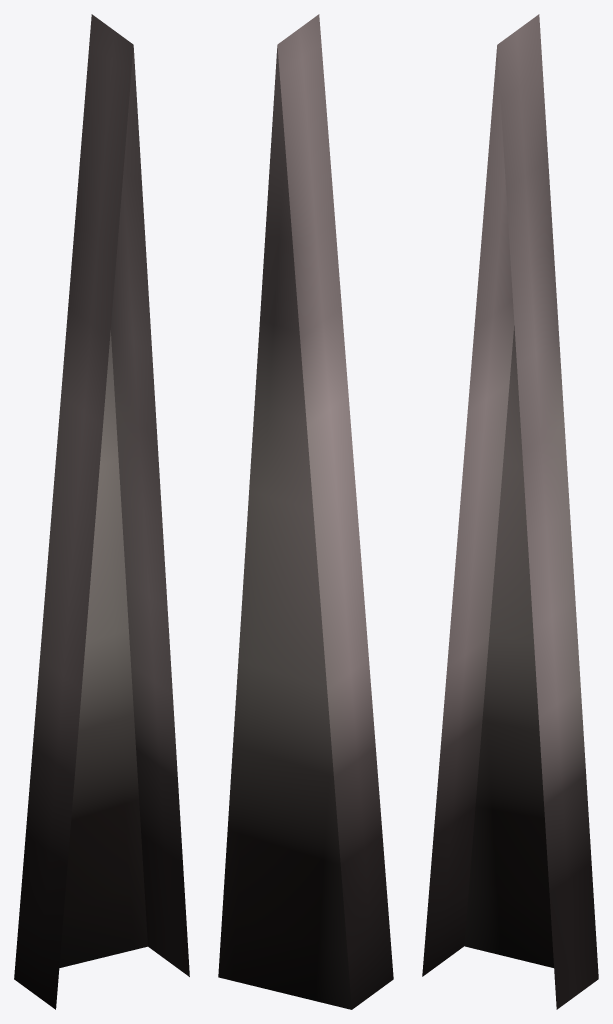
Rendered from PONTEIRO.glb.
3 renders of one model, left to right at view 1: azimuth 30°, elevation 25°; view 2: azimuth 150°, elevation 25°; view 3: azimuth 330°, elevation 25°, orthographic.
Parts seen in each view (by area): view 1: ponteiroTemperatura; view 2: ponteiroTemperatura; view 3: ponteiroTemperatura.
Boxes of the visible parts, x1,y1,x2,y2 form: ponteiroTemperatura: (14, 14, 189, 1009); ponteiroTemperatura: (218, 14, 393, 1009); ponteiroTemperatura: (422, 14, 598, 1009).
Size of the model in its own units: 0.047 by 0.3176 by 0.0264.
1 material, 1 textured.
